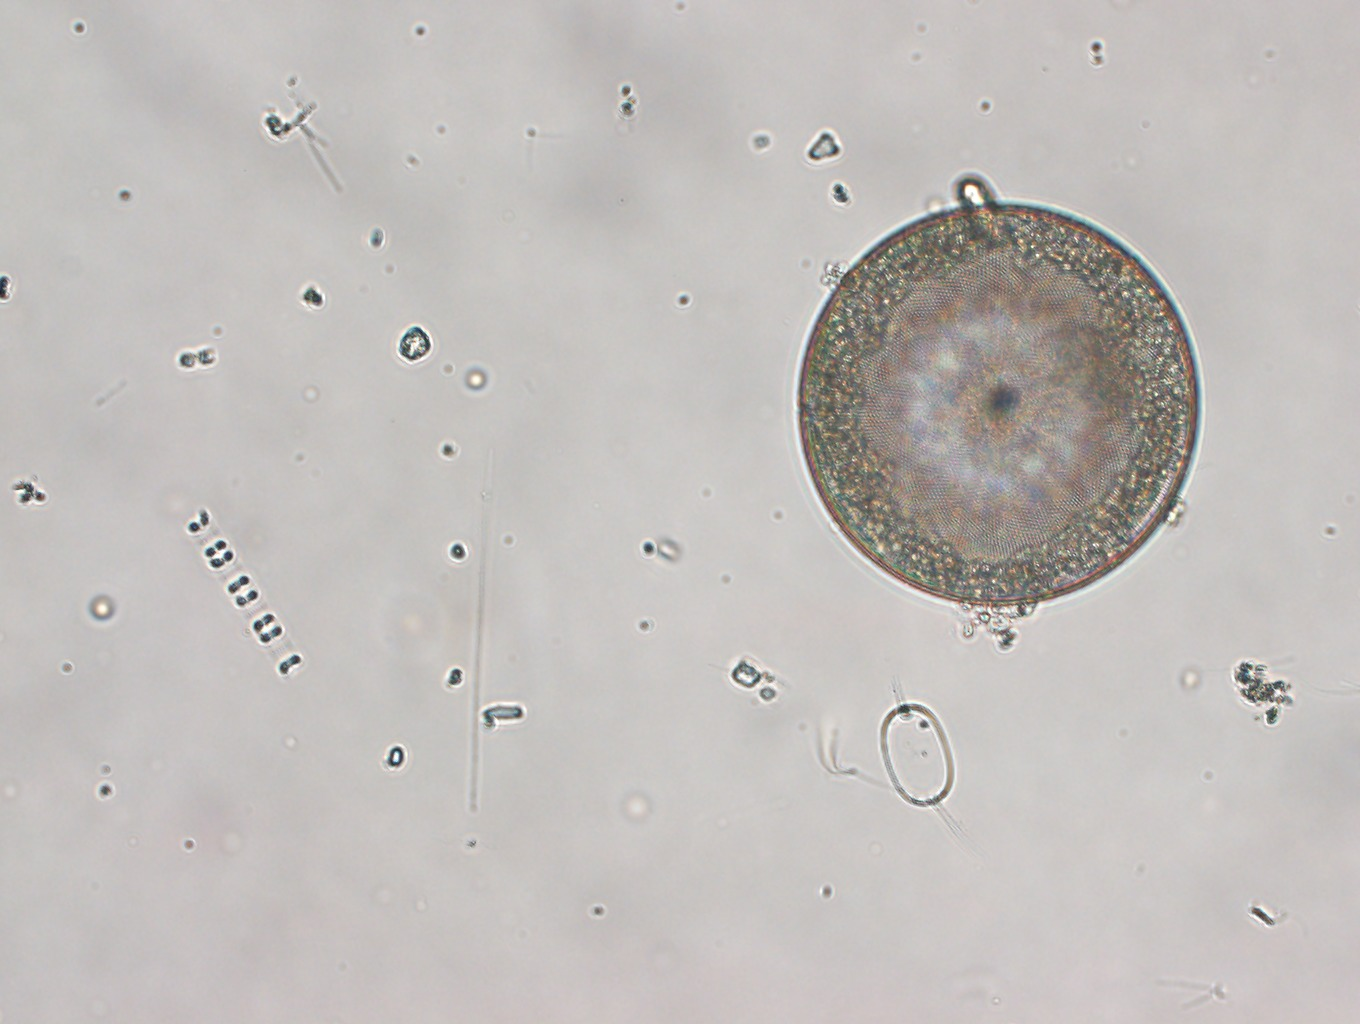coscinodiscus: (789, 191, 1211, 615)
skeletonema: (176, 503, 303, 682)
